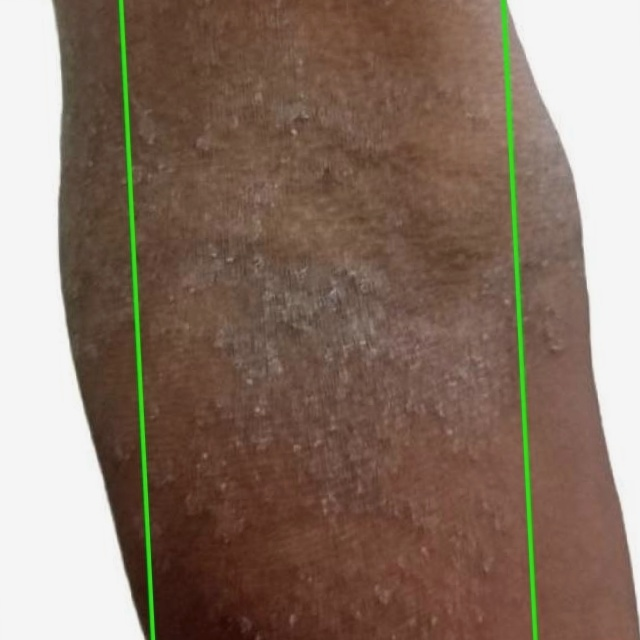Eczema: (0, 0, 153, 639), (503, 0, 639, 639)
